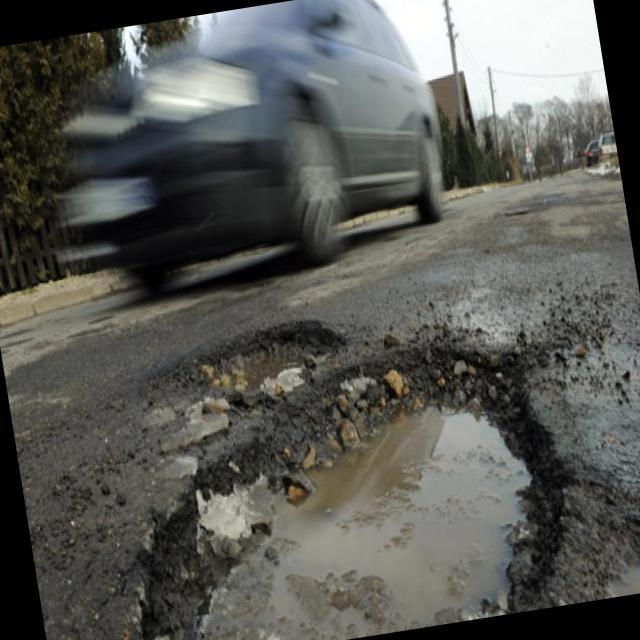Pothole: (197, 406, 529, 640), (210, 321, 323, 386)
